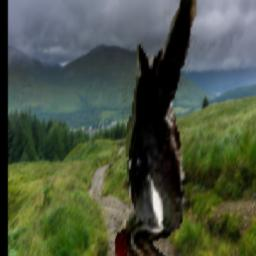Woodpecker: (115, 0, 196, 256)
